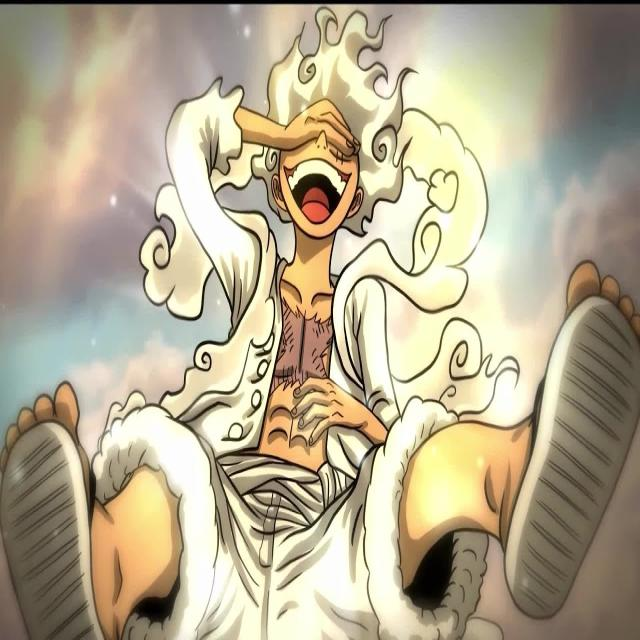luffy: (0, 7, 640, 639)
